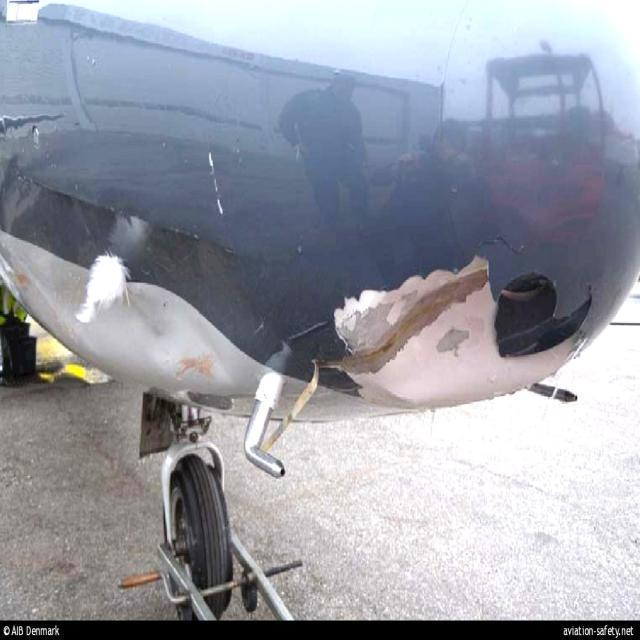crack: (478, 232, 529, 261)
dent: (382, 309, 457, 406), (134, 295, 186, 374), (188, 313, 237, 383)
